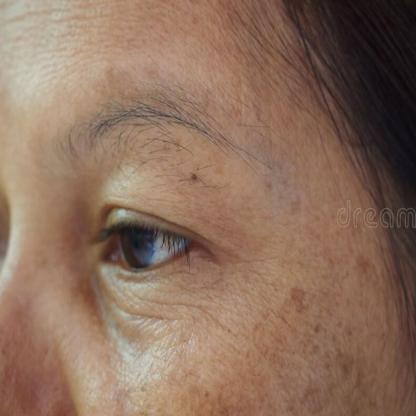darkspot: (289, 279, 365, 382), (139, 383, 272, 415), (254, 150, 300, 214), (183, 162, 209, 190)
wrinkle: (84, 275, 283, 338), (9, 9, 98, 40)
